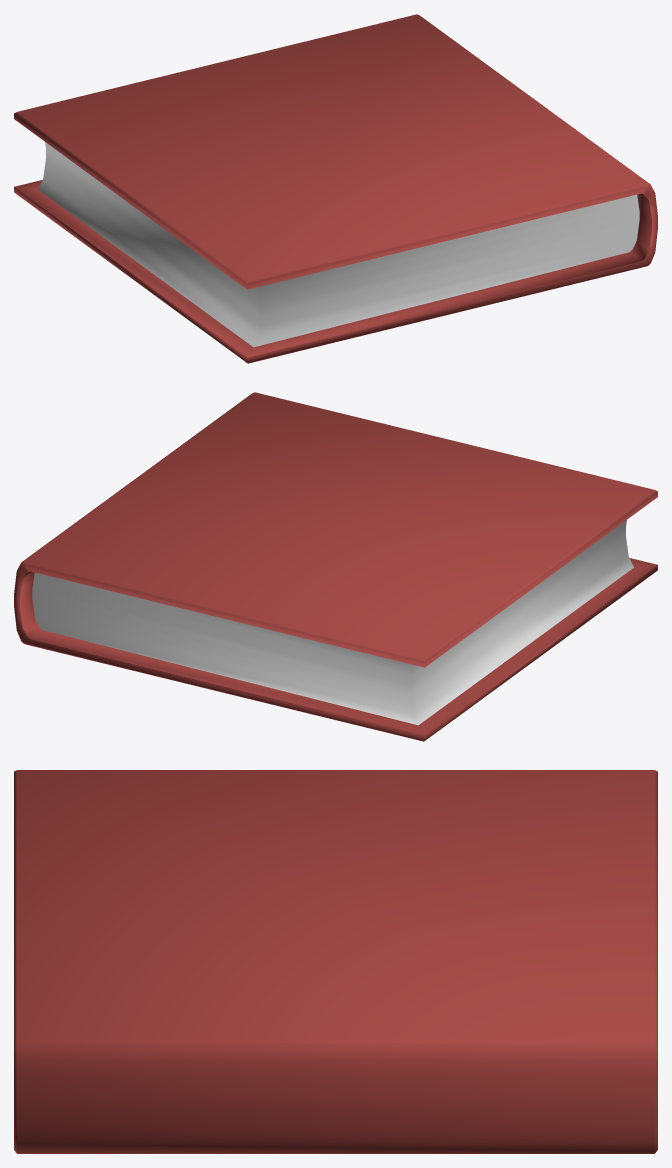
File: book.glb
3 views of the same model, one above another, from view 1: azimuth 30°, elevation 25°; view 2: azimuth 150°, elevation 25°; view 3: azimuth 270°, elevation 25° (orthographic). The views are drawn at different scales.
Parts seen in each view (by area): view 1: prop_book; view 2: prop_book; view 3: prop_book.
Boxes of the visible parts, x1,y1,x2,y2 form: prop_book: (14, 14, 657, 363); prop_book: (14, 392, 657, 741); prop_book: (14, 770, 657, 1153).
Size of the model in its own units: 0.2248 by 0.0432 by 0.2204.
